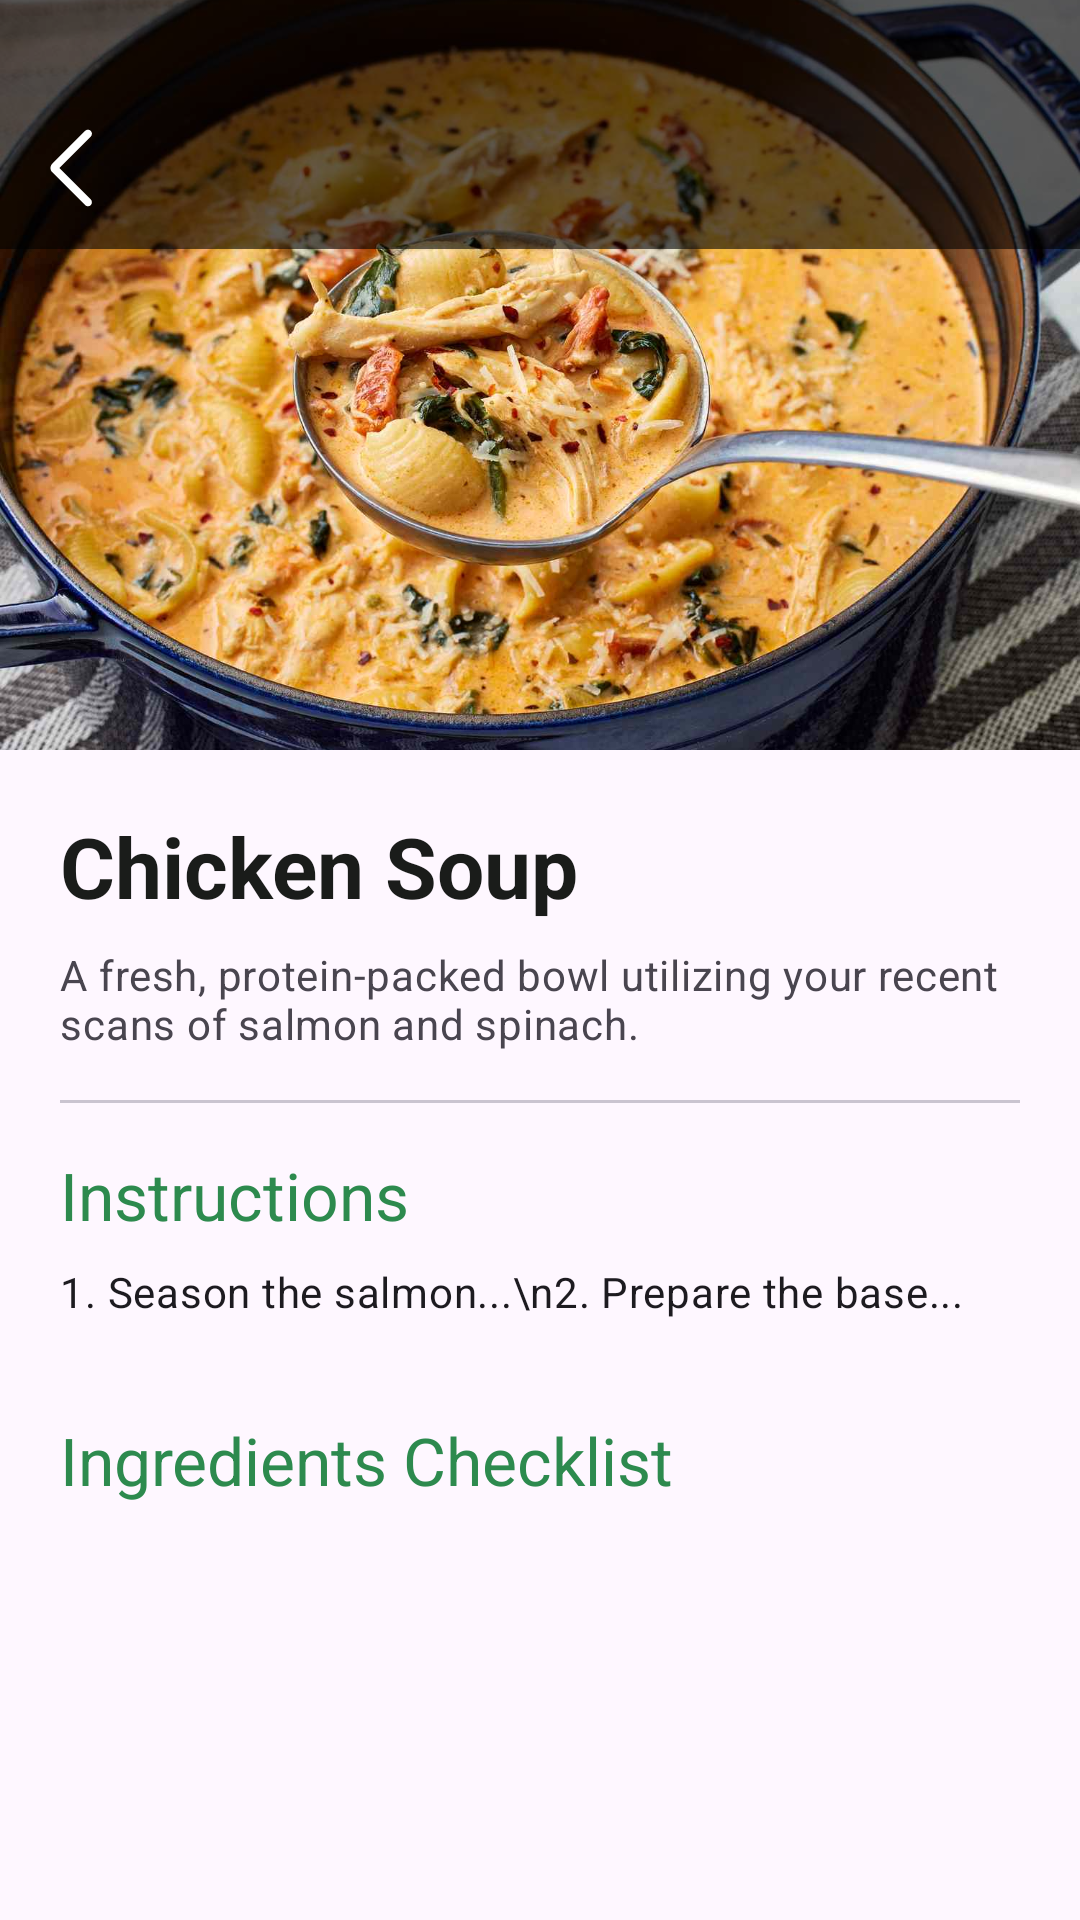

Locate icon controls on the screen. Image size 1080×1920, boxes as (x1, y1, x2, y2).
arrow back: (50, 129, 144, 216)
